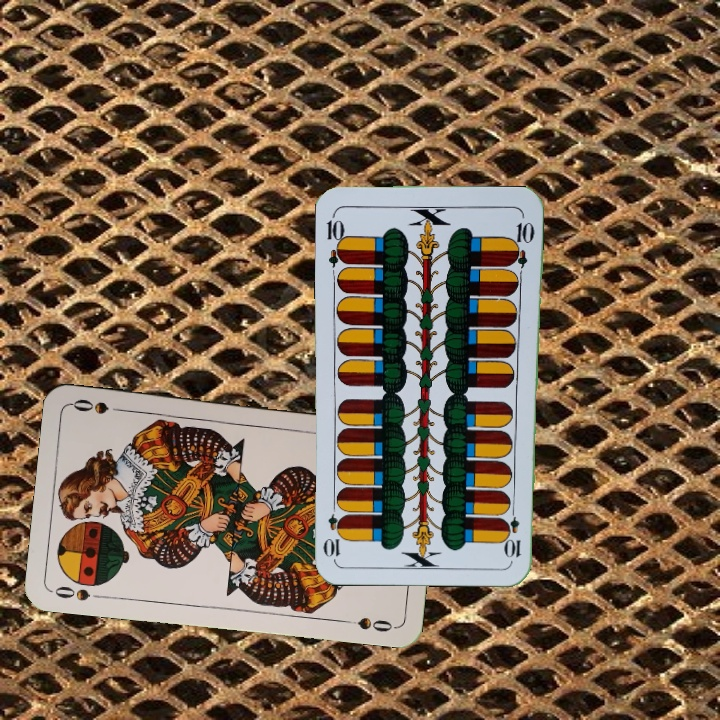E10: (323, 210, 349, 269), (505, 501, 523, 560)
SO: (49, 582, 93, 604)
